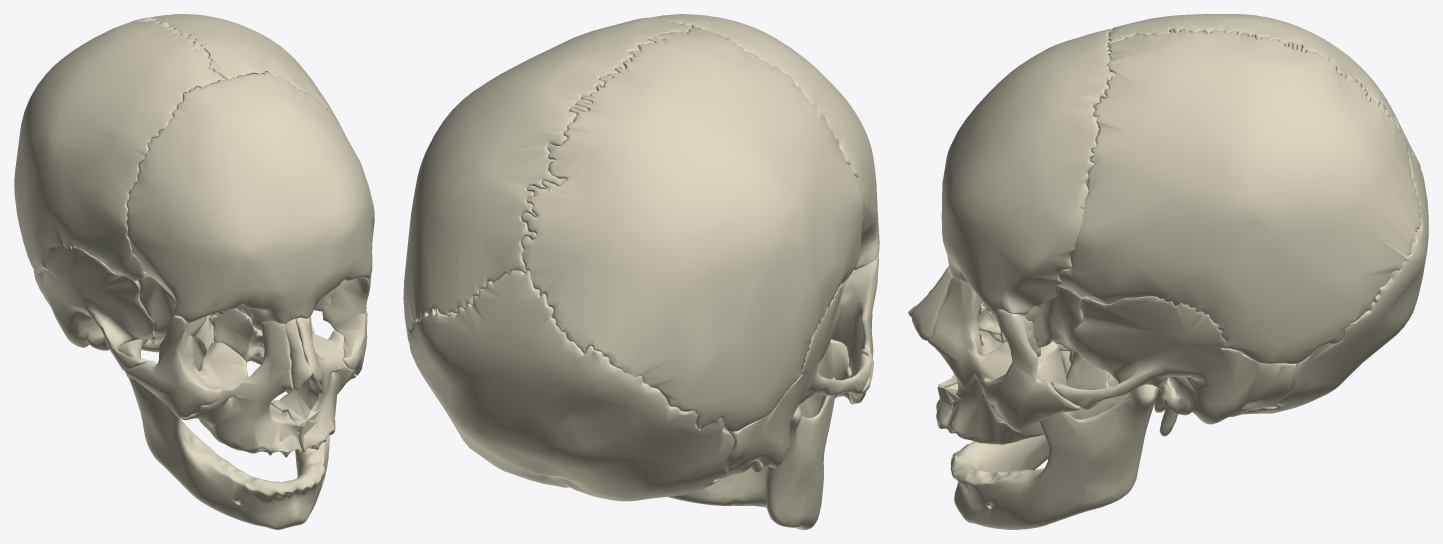
File: skull.glb
The picture shows the model from 3 angles, left to right: view 1: azimuth 30°, elevation 25°; view 2: azimuth 150°, elevation 25°; view 3: azimuth 270°, elevation 25°; orthographic projection. The views are drawn at different scales.
Visible parts, largest first — view 1: grp1 (×6); view 2: grp1 (×6); view 3: grp1 (×7).
Part boxes in pixels (x1,y1,x2,y2): grp1 (×6): (14,14,374,529); grp1 (×6): (403,14,879,529); grp1 (×7): (908,14,1428,529).
Size of the model in its own units: 0.151 by 0.2146 by 0.2088.
